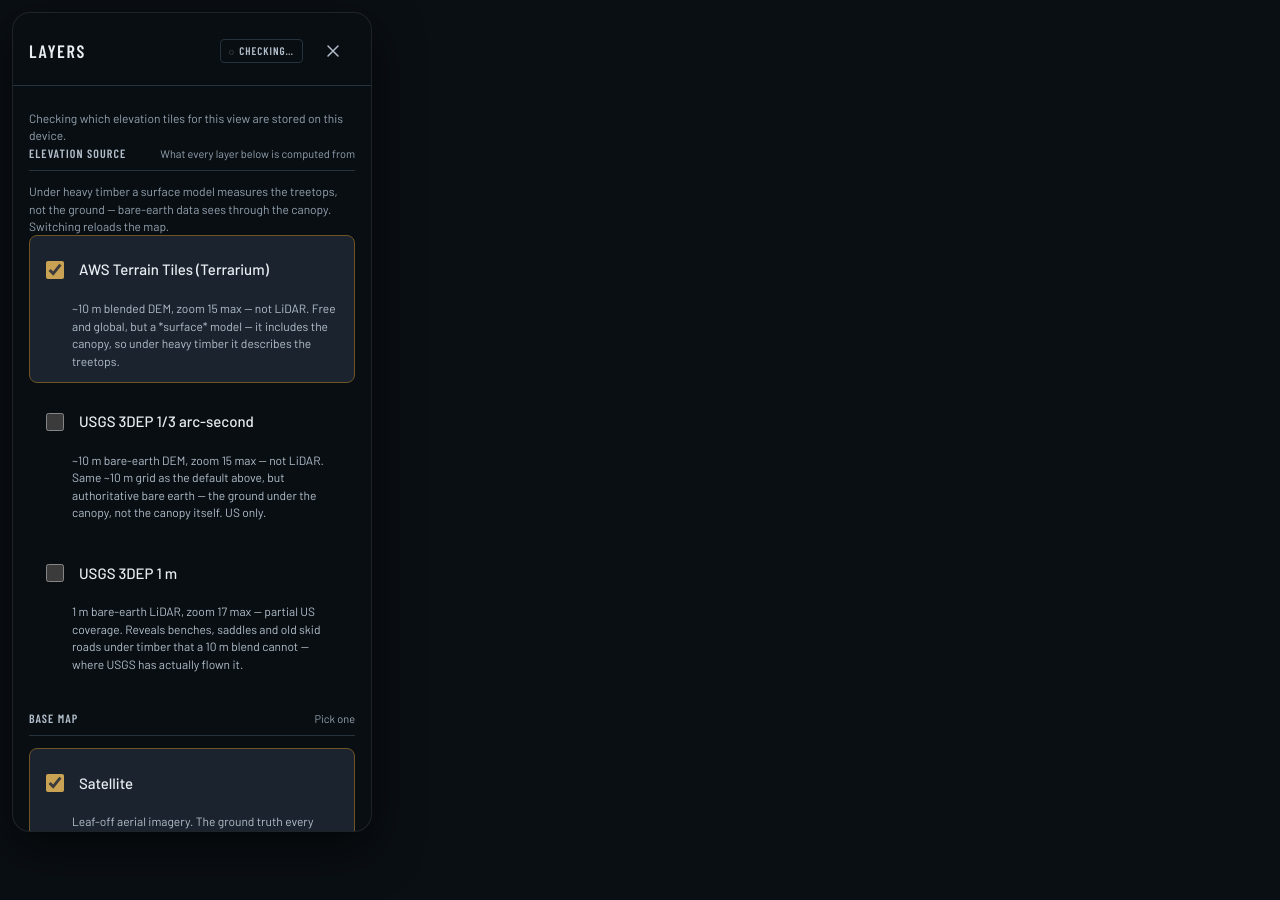
Test: LayersSheet — elevation source picker › tapping a different, unblocked source asks for confirmation before doing anything irreversible
The width and height of the screenshot is (1280, 900).
Expected: the text "This reloads the map" is not shown
Step 1. Click the checkbox with id "dem-source-usgs3dep-13" → (55, 422), box x1=46 y1=413 x2=64 y2=431
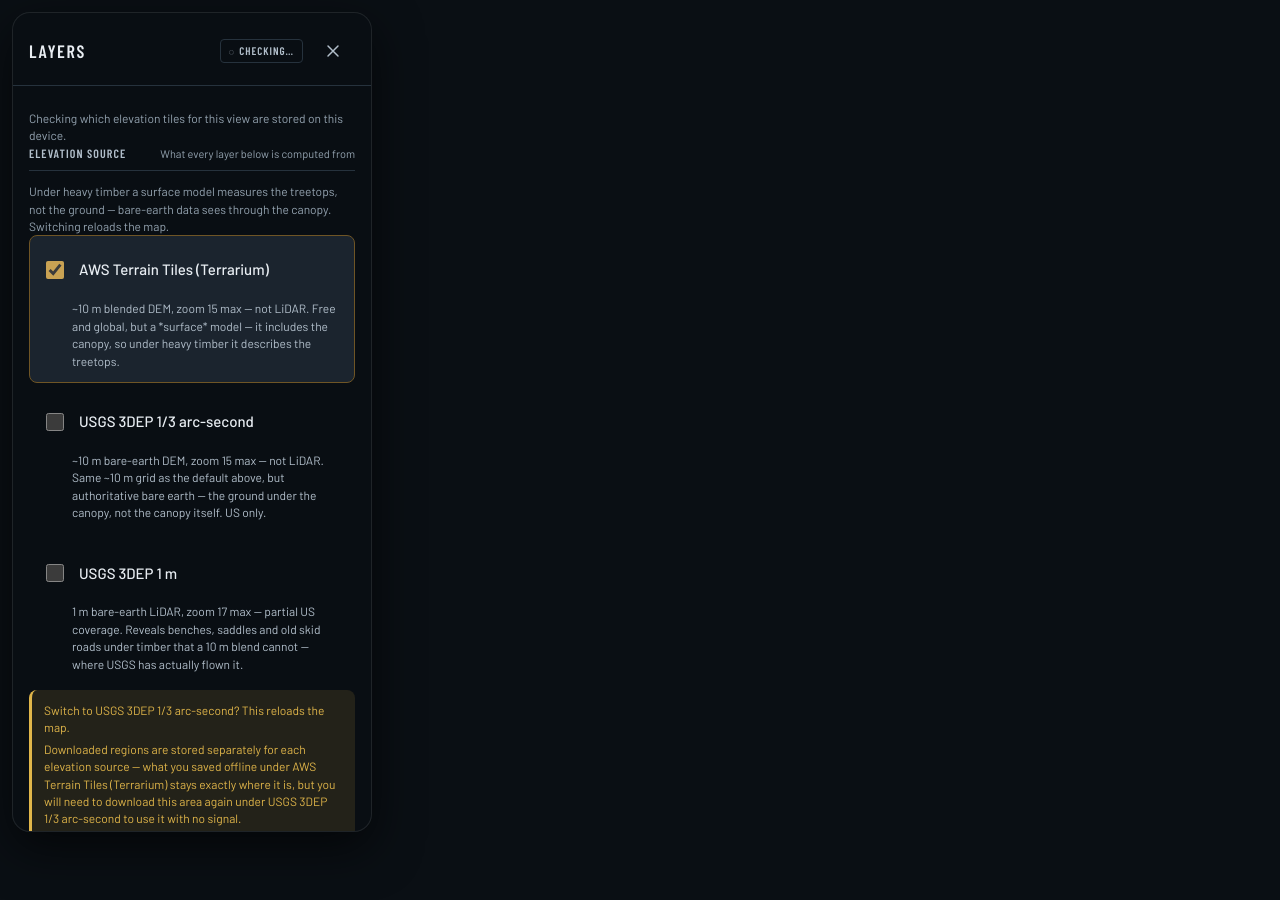
Now the text "This reloads the map" is shown, box x1=44 y1=703 x2=324 y2=734
